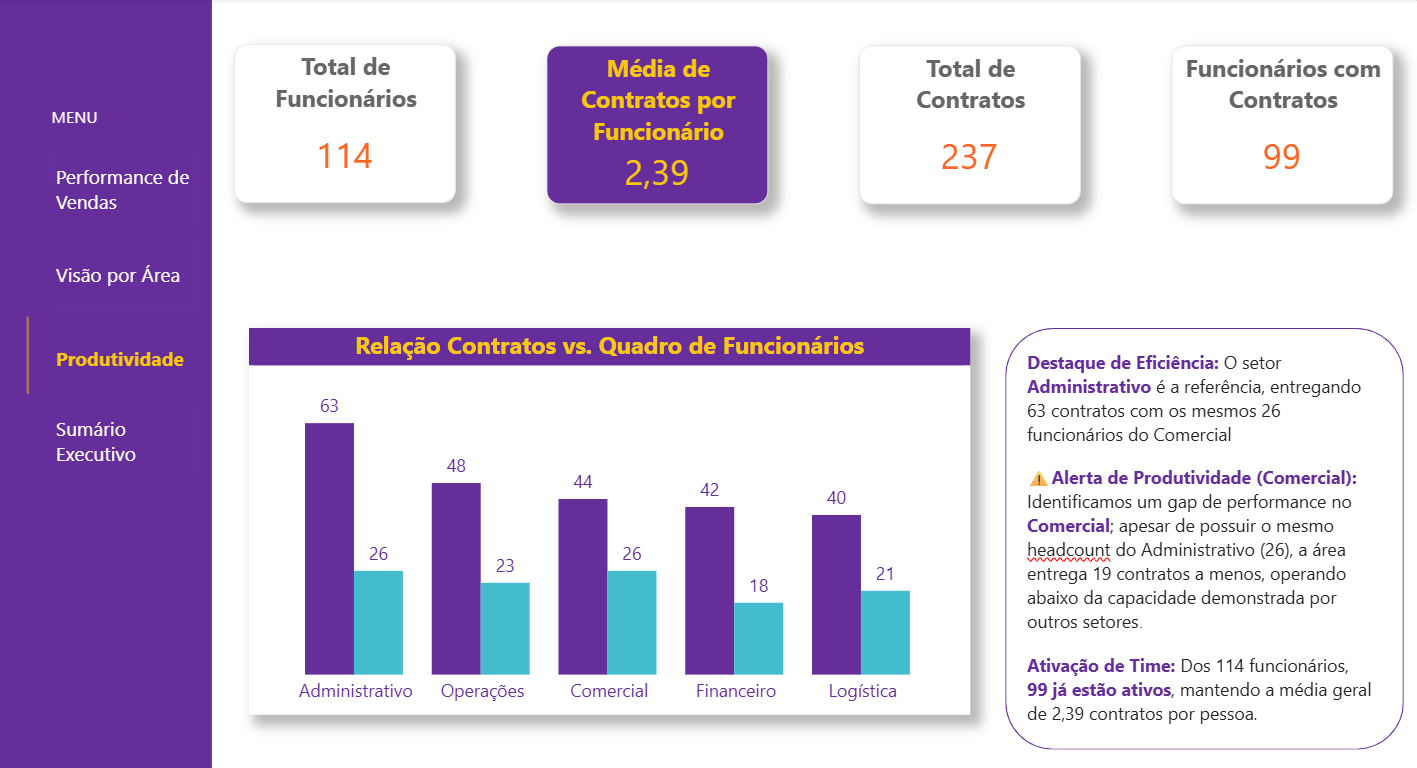

The page's visual inventory and layout, read from the dashboard file:
{"tool":"powerbi","page":{"name":"Produtividade","canvas":[1280,720],"ordinal":3},"visuals":[{"type":"clusteredColumnChart","title":"Relação Contratos vs. Quadro de Funcionários","fields":{"Category":["CadastroFuncionarios.Area"],"Y":["Tab Medidas.Total Contratos Fechados","Tab Medidas.Total Funcionários"]},"box":[225,297.5,650,348.8],"z":0},{"type":"shape","box":[0,0,192,1100],"z":1000},{"type":"shape","box":[47.8,84,100,44],"z":2000},{"type":"actionButton","box":[47.8,141.1,132,63],"z":3000},{"type":"actionButton","box":[47.8,217.3,132.2,62.2],"z":4000},{"type":"shape","box":[15.8,287.4,20.3,69.9],"z":5000},{"type":"actionButton","box":[47.8,292.6,133,62],"z":6000},{"type":"card","title":"Total de Funcionários","fields":{"Values":["Tab Medidas.Total Funcionários"]},"box":[212.2,42.2,200,143.3],"z":7000},{"type":"card","title":"Funcionários com Contratos","fields":{"Values":["Contratos.Total Funcionários Ativos"]},"box":[1057.1,42.9,200,143],"z":8000},{"type":"card","title":"Total de Contratos","fields":{"Values":["Contratos.Total Contratos Fechados"]},"box":[775.5,42.9,200,143],"z":9000},{"type":"card","title":"Média de Contratos por Funcionário ","fields":{"Values":["Tab Medidas.Taxa de Produtividade (Contratos p/ Funcionário)"]},"box":[493.9,42.6,200,143.3],"z":10000},{"type":"shape","box":[907.3,297.1,359.5,380.3],"z":11000},{"type":"textbox","box":[922,311.8,322.8,352.2],"z":12000},{"type":"actionButton","box":[47.8,367.8,132.2,62.2],"z":13000}]}

Visuals, with their boxes on the page's 1280x720 design canvas (x1, y1, x2, y2). These are canvas units, not pixel positions in the 1417x768 screenshot, which may show the page scaled, cropped or inside an application window:
"Relação Contratos vs. Quadro de Funcionários" clusteredColumnChart: pyautogui.locateOnScreen(225, 298, 875, 646)
shape: pyautogui.locateOnScreen(0, 0, 192, 1100)
shape: pyautogui.locateOnScreen(48, 84, 148, 128)
actionButton: pyautogui.locateOnScreen(48, 141, 180, 204)
actionButton: pyautogui.locateOnScreen(48, 217, 180, 280)
shape: pyautogui.locateOnScreen(16, 287, 36, 357)
actionButton: pyautogui.locateOnScreen(48, 293, 181, 355)
"Total de Funcionários" card: pyautogui.locateOnScreen(212, 42, 412, 186)
"Funcionários com Contratos" card: pyautogui.locateOnScreen(1057, 43, 1257, 186)
"Total de Contratos" card: pyautogui.locateOnScreen(776, 43, 976, 186)
"Média de Contratos por Funcionário " card: pyautogui.locateOnScreen(494, 43, 694, 186)
shape: pyautogui.locateOnScreen(907, 297, 1267, 677)
textbox: pyautogui.locateOnScreen(922, 312, 1245, 664)
actionButton: pyautogui.locateOnScreen(48, 368, 180, 430)
